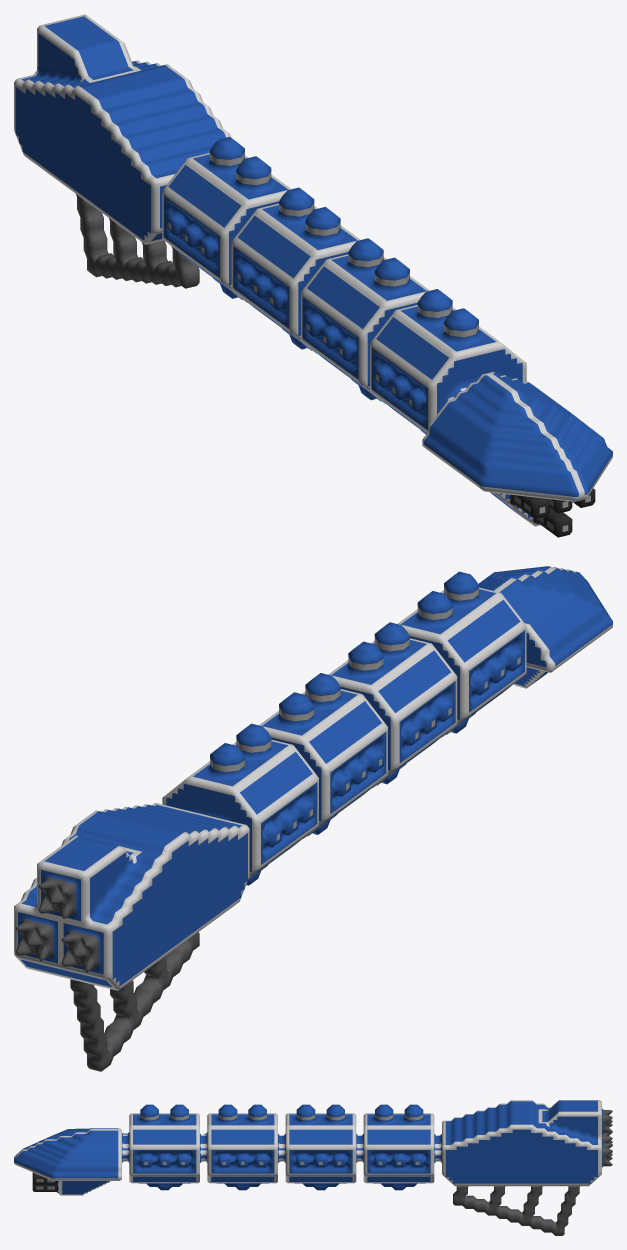
Rendered from diadochi-5-aedon-class.obj.
The picture shows the model from 3 angles, top to bottom: view 1: azimuth 30°, elevation 25°; view 2: azimuth 150°, elevation 25°; view 3: azimuth 270°, elevation 25°; orthographic projection. The views are drawn at different scales.
Size of the model in its own units: 23 by 38 by 161.
Materials: 1 (1 with a texture image).
